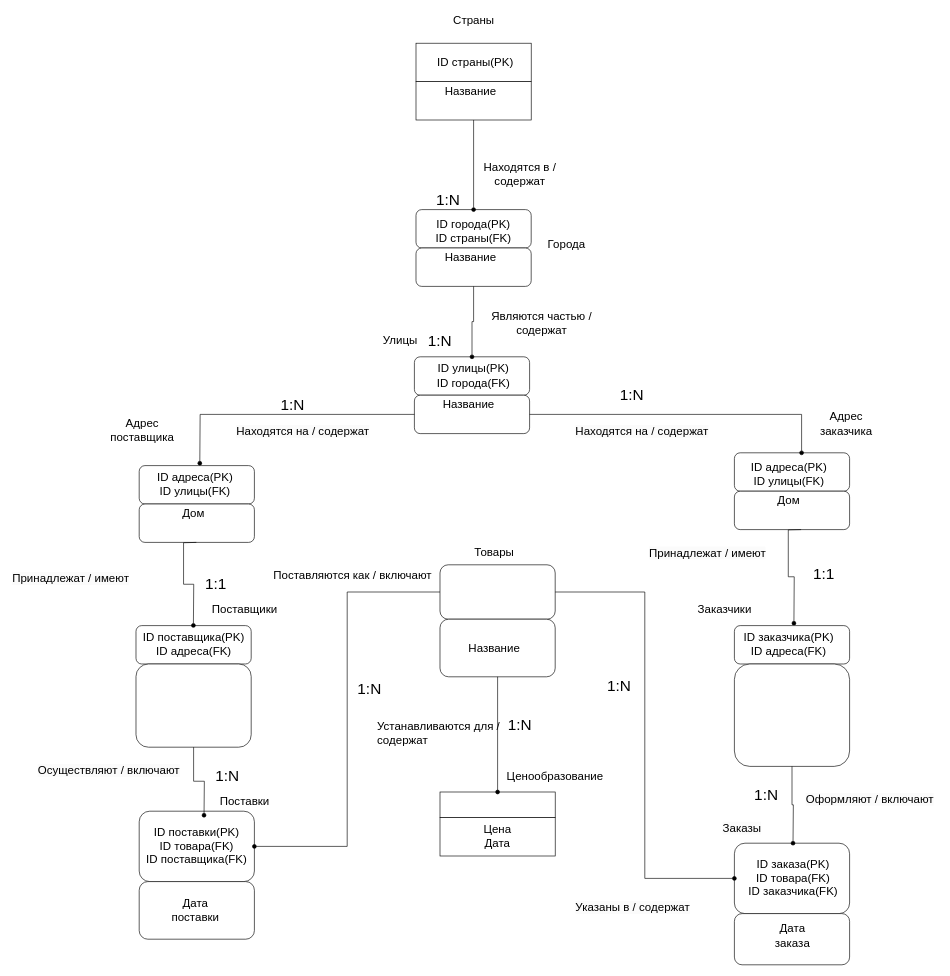
Image size: 950x976. Some labels were removed from this diagram. Each missing label, with the centre of its shape:
"ID товара(FK)" goes at [497,804].
"ID товара(PK)" goes at [497,591].
"Имя Фамилия Отчество Дата рождения Телефон" goes at [792,714].
"Имя Фамилия Отчество Телефон" goes at [193,705].
